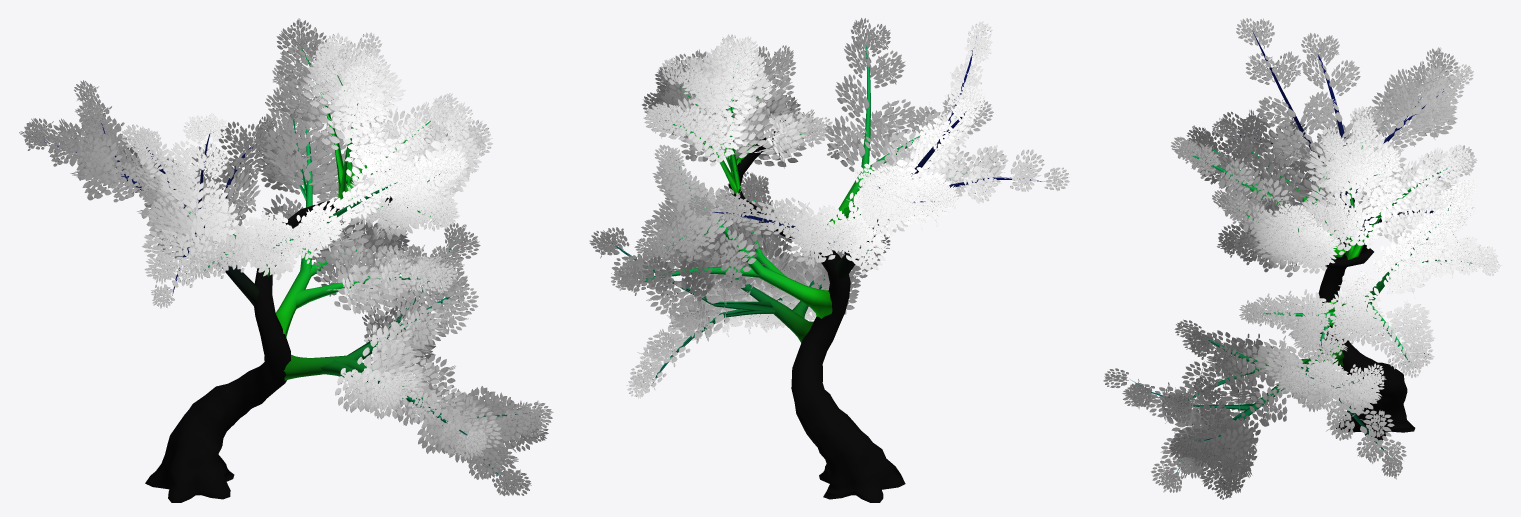
File: tree1.fbx
The picture shows the model from 3 angles, left to right: view 1: azimuth 30°, elevation 25°; view 2: azimuth 150°, elevation 25°; view 3: azimuth 270°, elevation 25°; orthographic projection. The views are drawn at different scales.
Parts seen in each view (by area): view 1: leafss_1, mossybark01_0; view 2: leafss_1, mossybark01_0; view 3: leafss_1, mossybark01_0.
Boxes of the visible parts, left/top/right/bottom form: leafss_1: left=19, top=18, right=553, bottom=496; mossybark01_0: left=44, top=49, right=526, bottom=502; leafss_1: left=589, top=18, right=1069, bottom=398; mossybark01_0: left=612, top=36, right=1044, bottom=502; leafss_1: left=1103, top=18, right=1501, bottom=499; mossybark01_0: left=1130, top=31, right=1472, bottom=473.
Size of the model in its own units: 457 by 457 by 431.
